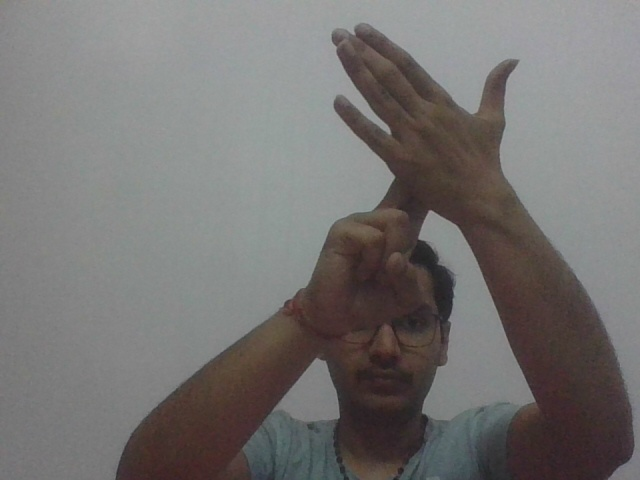N: (323, 26, 516, 242)
